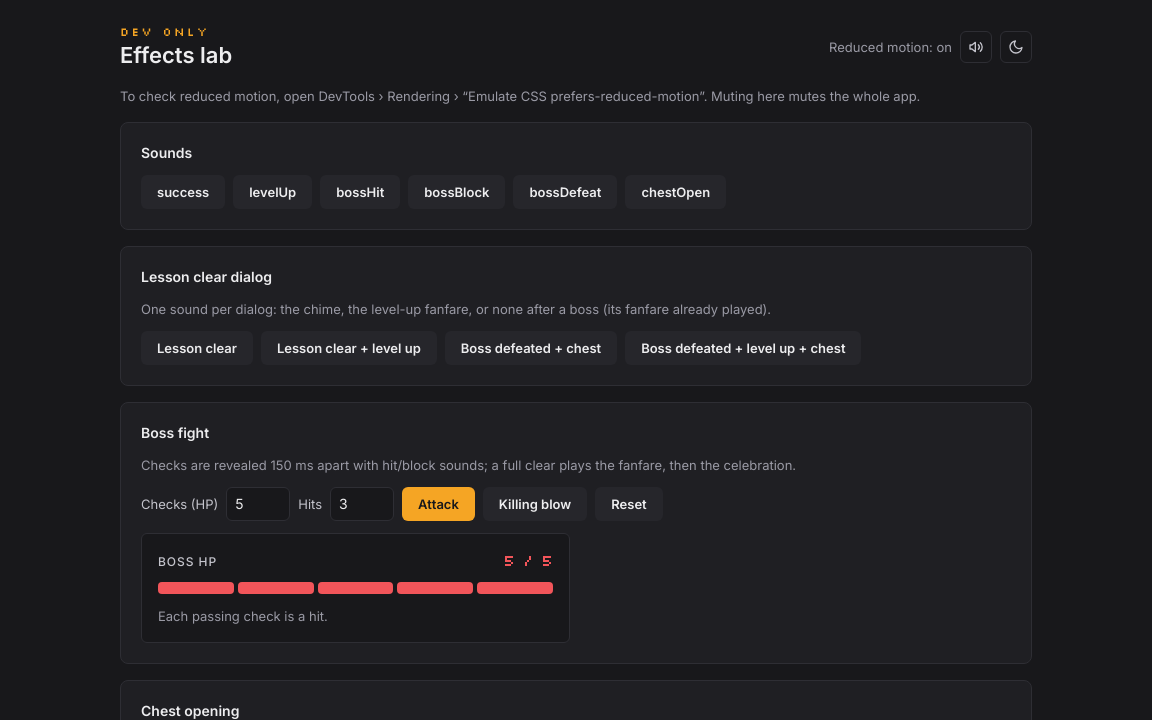
EffectsLab (dev only) › runs a boss attack with the chosen hits, and a killing blow ends in the celebration
The image size is (1152, 720).
Click the button "Attack" at (438, 504), box top-left (402, 487), bottom-right (475, 521)
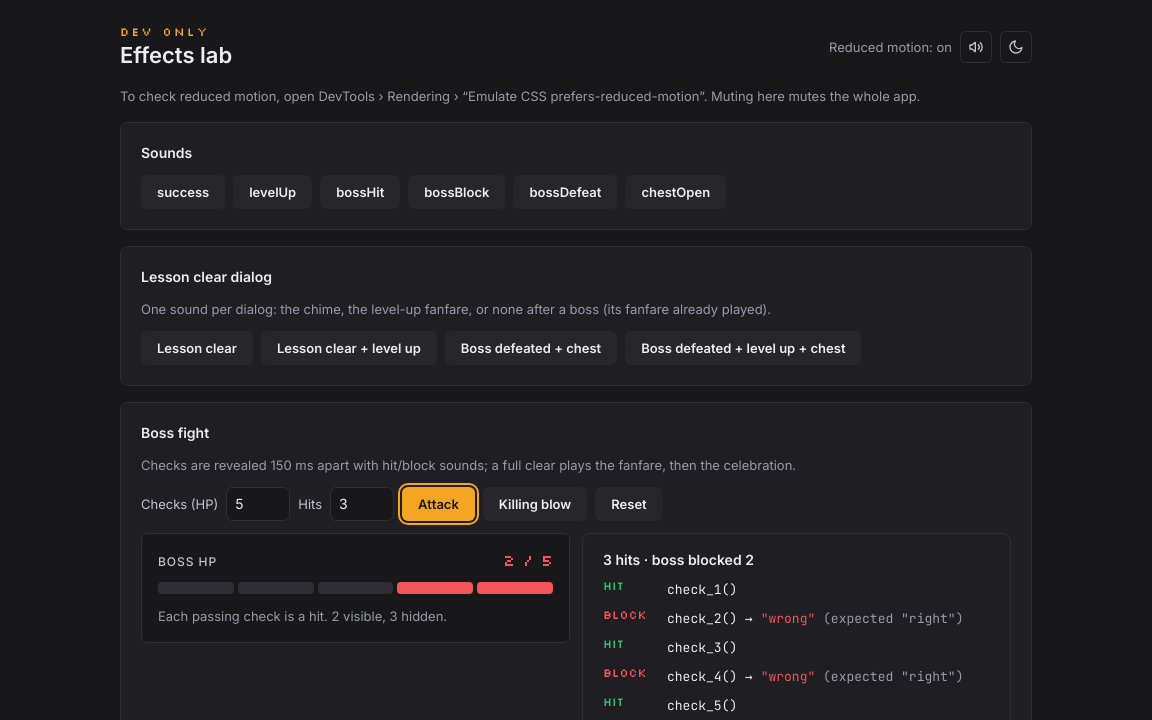
Check: the picture named "2 of 5 HP left" is shown, box top-left (158, 582), bottom-right (553, 594)
Click the button "Killing blow" at (535, 504), box top-left (483, 487), bottom-right (587, 521)
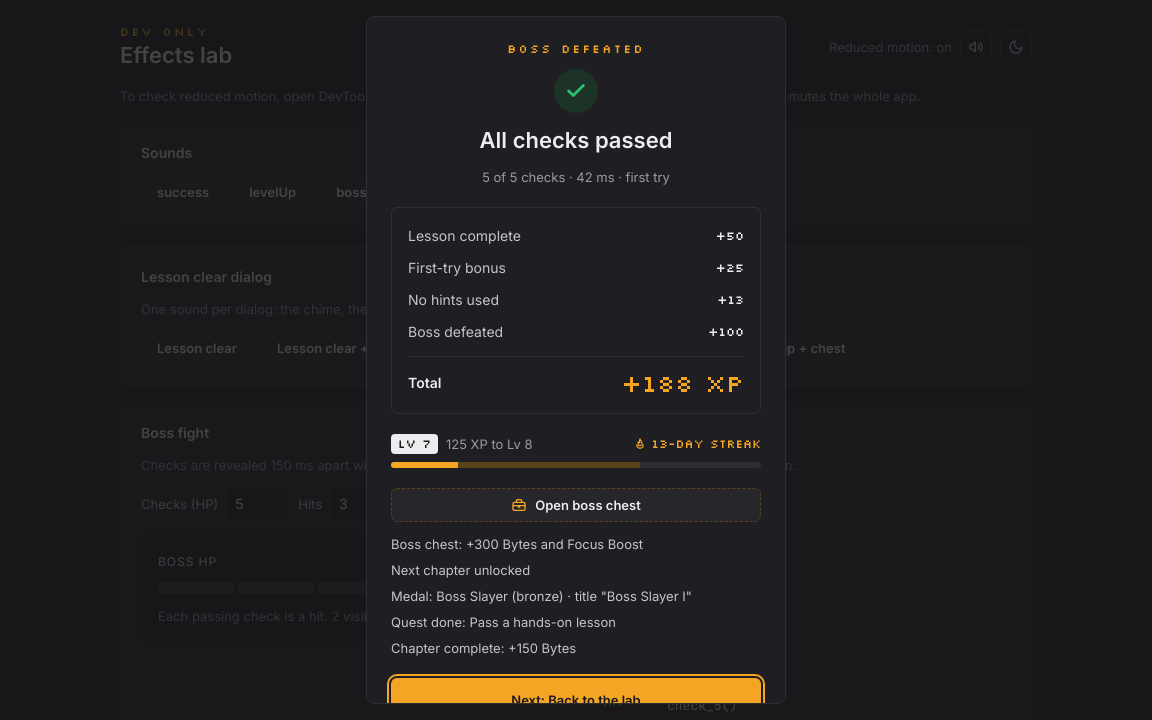
Check: the picture named "0 of 5 HP left" is shown, box top-left (158, 582), bottom-right (553, 594)
Check: the dialog "All checks passed" is shown, box top-left (366, 16), bottom-right (786, 704)
